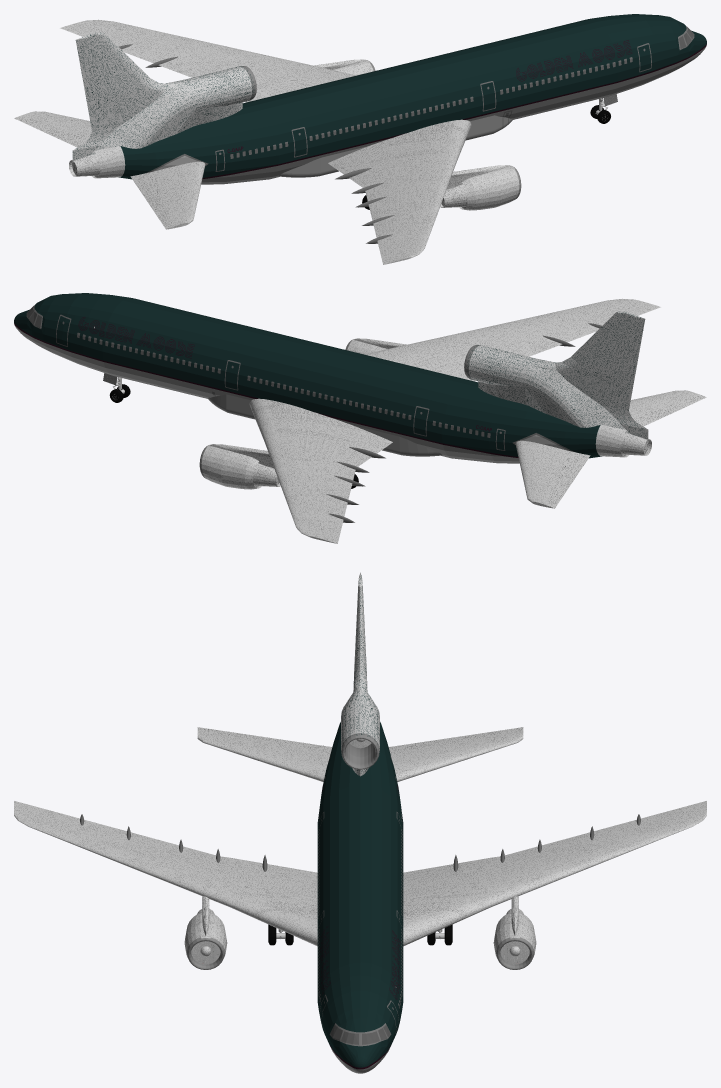
The picture shows the model from 3 angles, top to bottom: view 1: azimuth 30°, elevation 25°; view 2: azimuth 150°, elevation 25°; view 3: azimuth 270°, elevation 25°; orthographic projection. The views are drawn at different scales.
Visible parts, largest first — view 1: mesh49.003_mesh49-geometry, mesh41.005_mesh41-geometry, mesh26.005_mesh26-geometry, mesh46.003_mesh46-geometry, mesh43.005_mesh43-geometry, mesh47.003_mesh47-geometry, mesh48.003_mesh48-geometry, mesh42.005_mesh42-geometry; view 2: mesh49.003_mesh49-geometry, mesh26.005_mesh26-geometry, mesh41.005_mesh41-geometry, mesh47.003_mesh47-geometry, mesh28.005_mesh28-geometry, mesh46.003_mesh46-geometry, mesh48.003_mesh48-geometry, mesh27.005_mesh27-geometry; view 3: mesh49.003_mesh49-geometry, mesh41.005_mesh41-geometry, mesh26.005_mesh26-geometry, mesh47.003_mesh47-geometry, mesh46.003_mesh46-geometry, mesh43.005_mesh43-geometry, mesh28.005_mesh28-geometry.
Part boxes in pixels (<box>): mesh49.003_mesh49-geometry: <box>72,14,706,184</box>; mesh41.005_mesh41-geometry: <box>328,119,471,264</box>; mesh26.005_mesh26-geometry: <box>60,19,355,102</box>; mesh46.003_mesh46-geometry: <box>130,161,205,229</box>; mesh43.005_mesh43-geometry: <box>440,165,521,210</box>; mesh47.003_mesh47-geometry: <box>14,111,91,147</box>; mesh48.003_mesh48-geometry: <box>69,146,125,178</box>; mesh42.005_mesh42-geometry: <box>446,165,510,189</box>; mesh49.003_mesh49-geometry: <box>14,293,648,463</box>; mesh26.005_mesh26-geometry: <box>249,398,392,543</box>; mesh41.005_mesh41-geometry: <box>365,298,660,381</box>; mesh47.003_mesh47-geometry: <box>515,440,590,508</box>; mesh28.005_mesh28-geometry: <box>199,444,280,489</box>; mesh46.003_mesh46-geometry: <box>629,390,706,426</box>; mesh48.003_mesh48-geometry: <box>595,425,651,457</box>; mesh27.005_mesh27-geometry: <box>210,444,274,468</box>; mesh49.003_mesh49-geometry: <box>317,572,403,1073</box>; mesh41.005_mesh41-geometry: <box>14,801,317,946</box>; mesh26.005_mesh26-geometry: <box>403,801,706,946</box>; mesh47.003_mesh47-geometry: <box>388,727,523,781</box>; mesh46.003_mesh46-geometry: <box>197,727,332,781</box>; mesh43.005_mesh43-geometry: <box>184,909,227,969</box>; mesh28.005_mesh28-geometry: <box>493,909,536,969</box>.
Size of the model in its own units: 0.7285 by 0.2315 by 0.6447.
